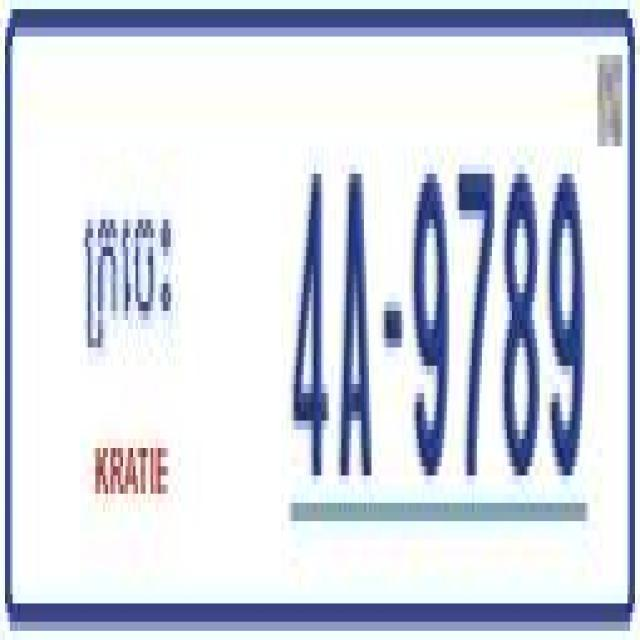Kratie: (81, 192, 174, 368)
